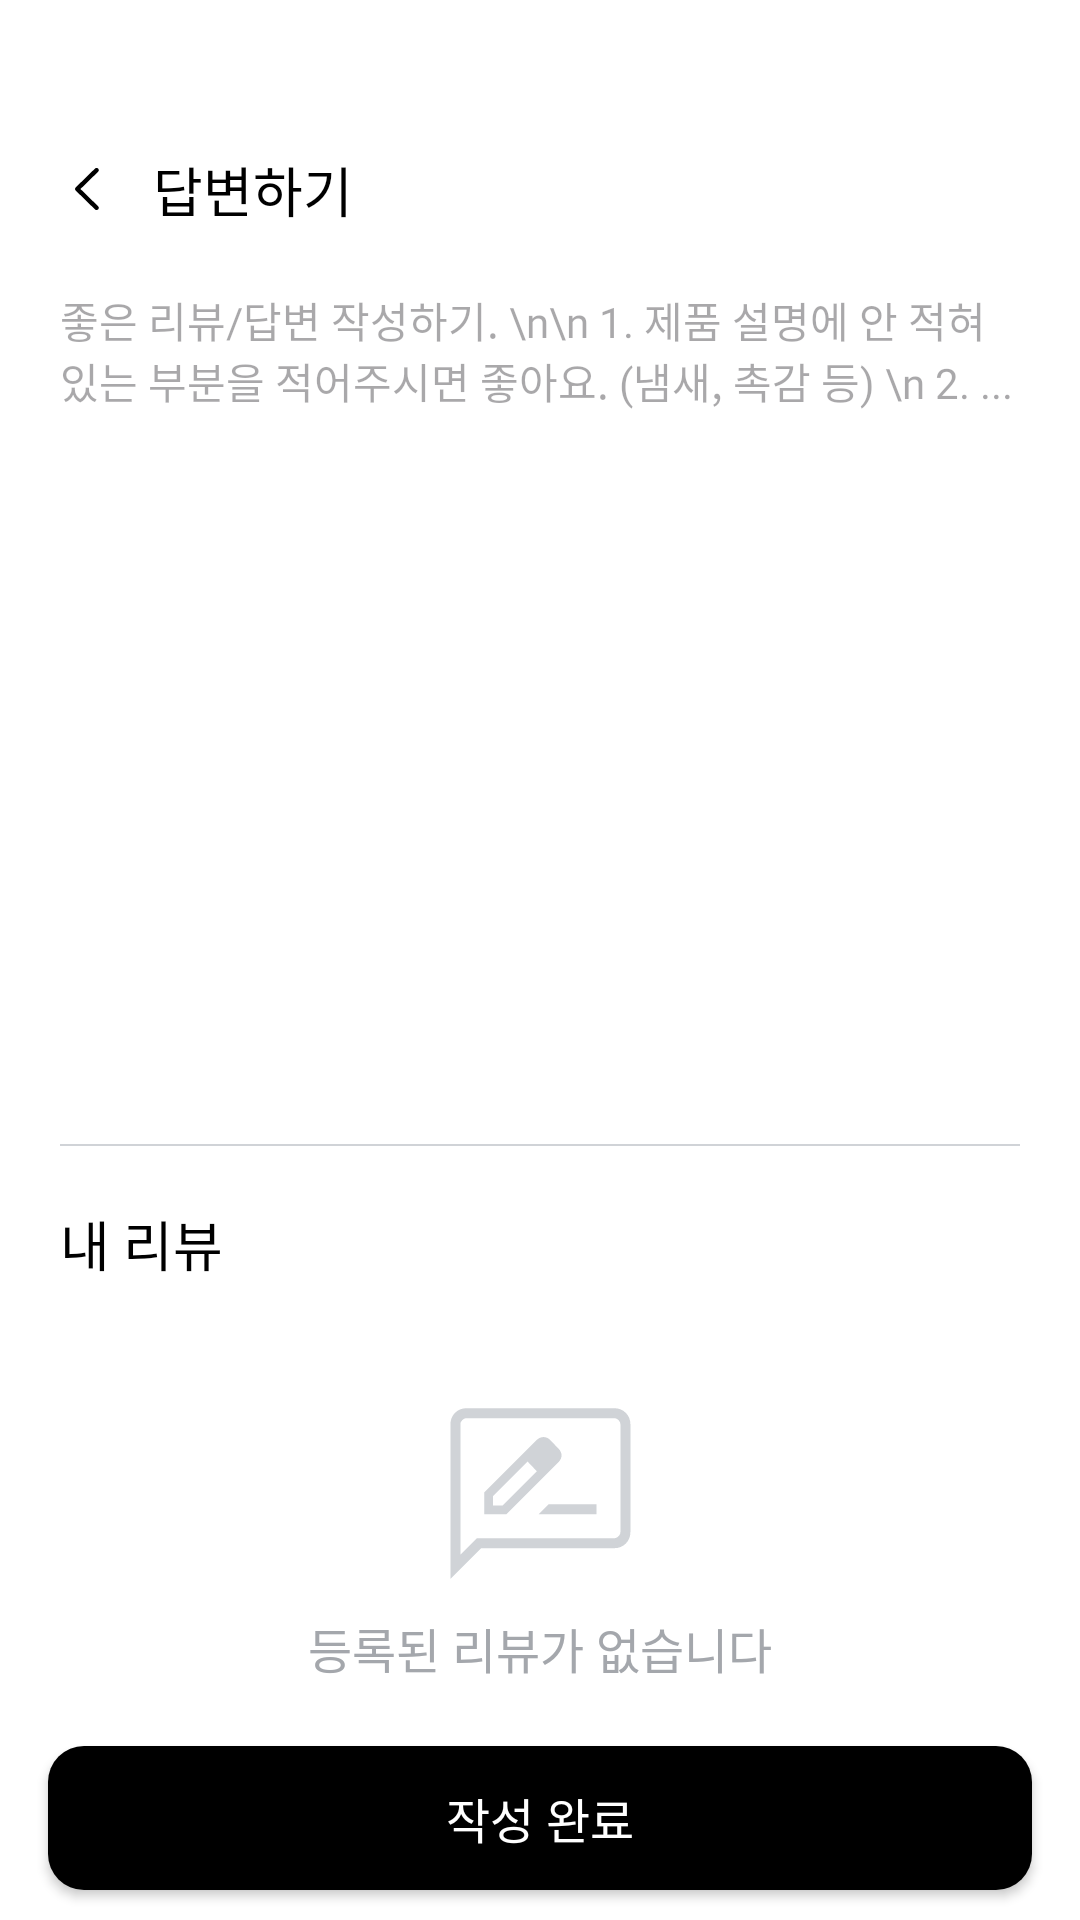

Icons on this 1080 x 1920 Android screen, each with the point to tap as (x=x, y=y):
back: (x=87, y=189)
